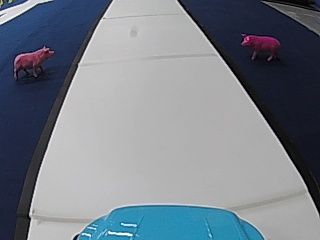pig: (11, 44, 53, 80), (237, 31, 281, 60)
